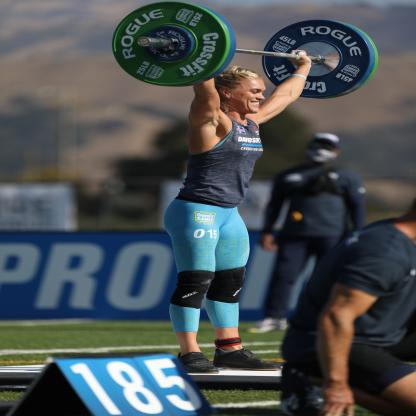barbell: (113, 2, 231, 88)
